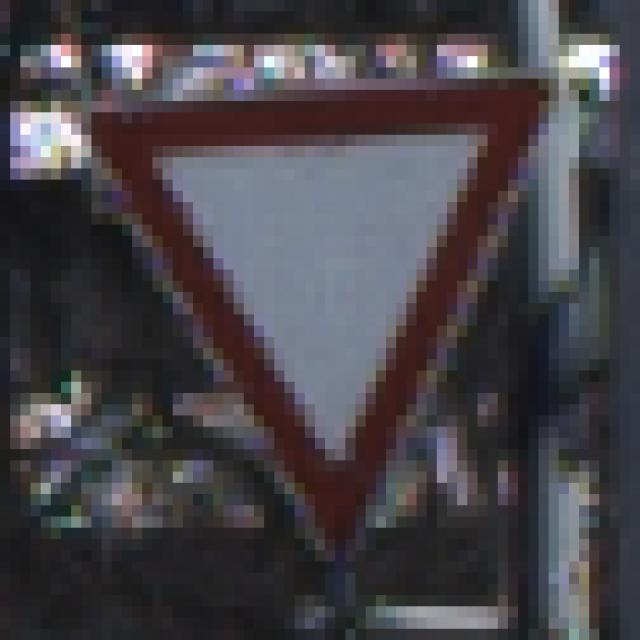Give Way: (62, 57, 590, 585)
